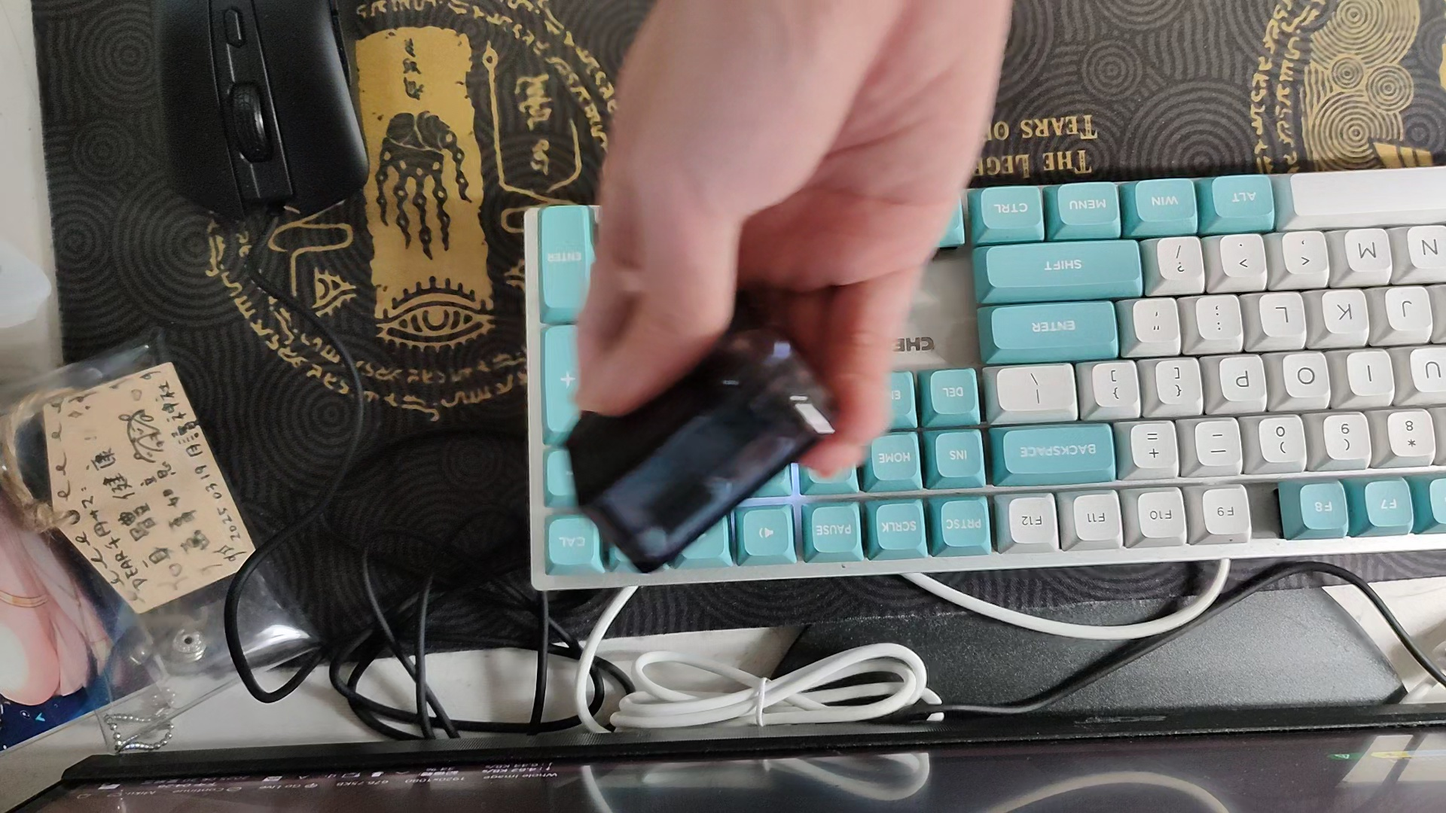Wireless_earphone: (564, 301, 841, 576), (841, 295, 849, 301)
